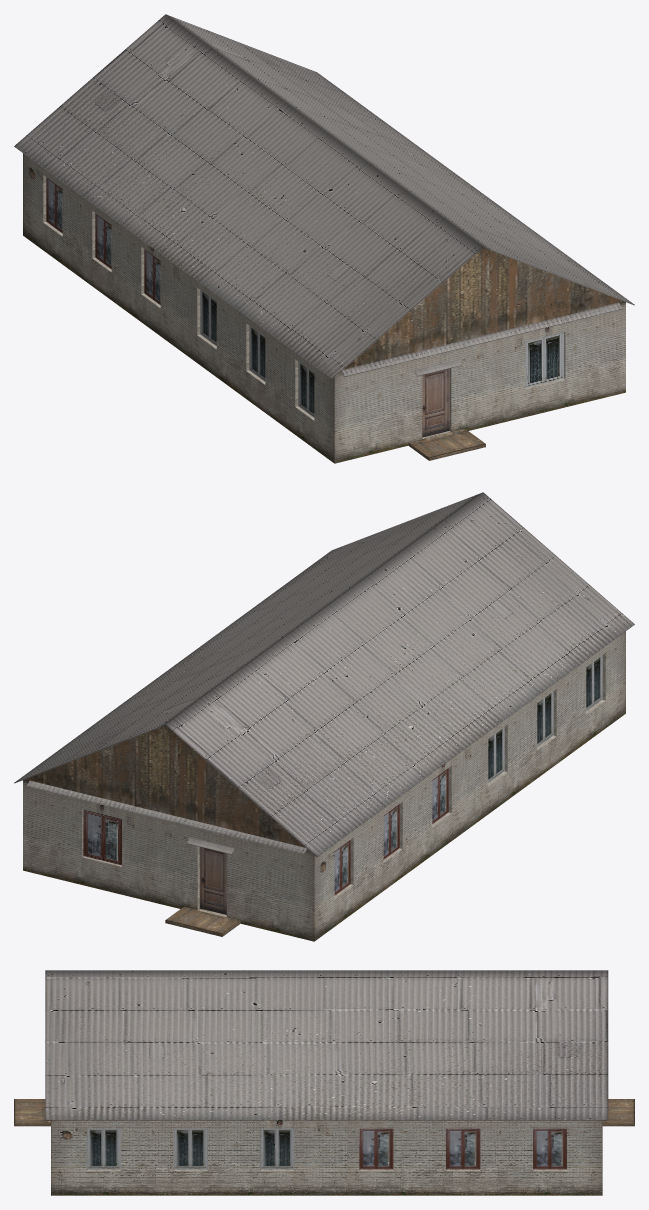
File: r402_tushnolobovo_dom6.FBX
3 renders of one model, top to bottom at view 1: azimuth 30°, elevation 25°; view 2: azimuth 150°, elevation 25°; view 3: azimuth 270°, elevation 25°, orthographic. The views are drawn at different scales.
Visible parts, largest first — view 1: r402_tushnolobovo_dom6; view 2: r402_tushnolobovo_dom6; view 3: r402_tushnolobovo_dom6.
Part boxes in pixels (box(x1,y1,x2,y2)): r402_tushnolobovo_dom6: box(14, 14, 634, 463); r402_tushnolobovo_dom6: box(14, 492, 634, 941); r402_tushnolobovo_dom6: box(14, 970, 634, 1195).
Size of the model in its own units: 1041 by 2085 by 602.
